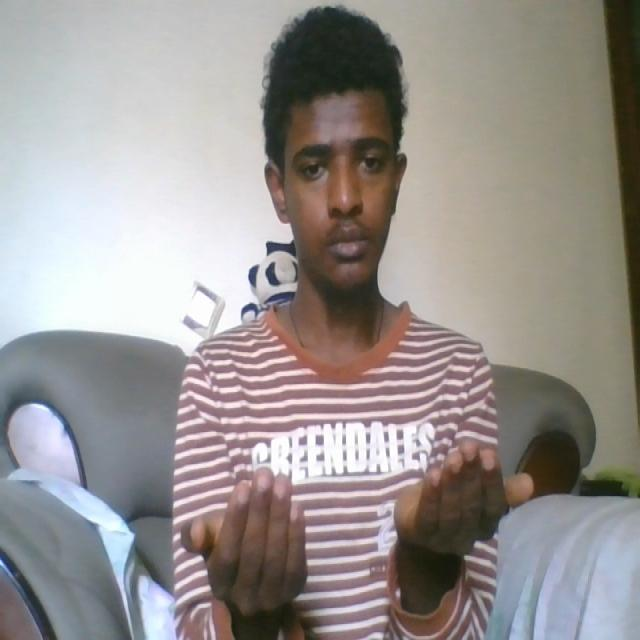mestet: (176, 448, 534, 568)
